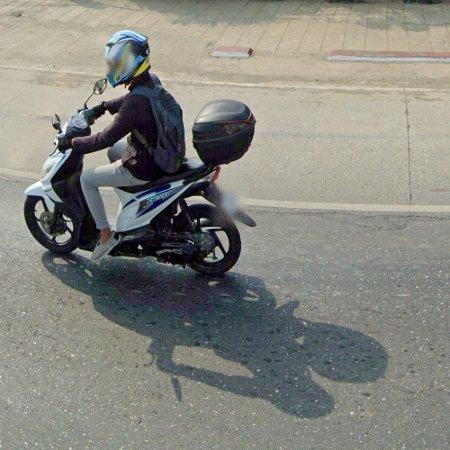motorcycles: (112, 100, 255, 275), (24, 147, 98, 254), (52, 78, 107, 144)
